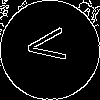V: (25, 25, 76, 66)
